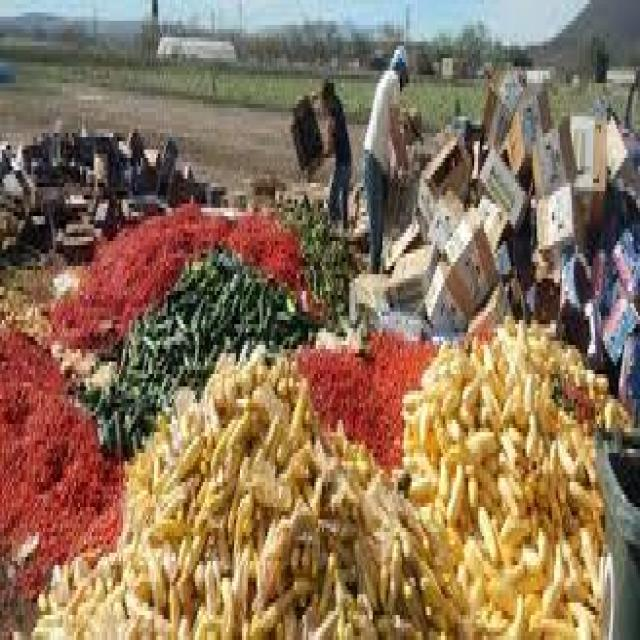food_waste: (48, 305, 590, 625)
